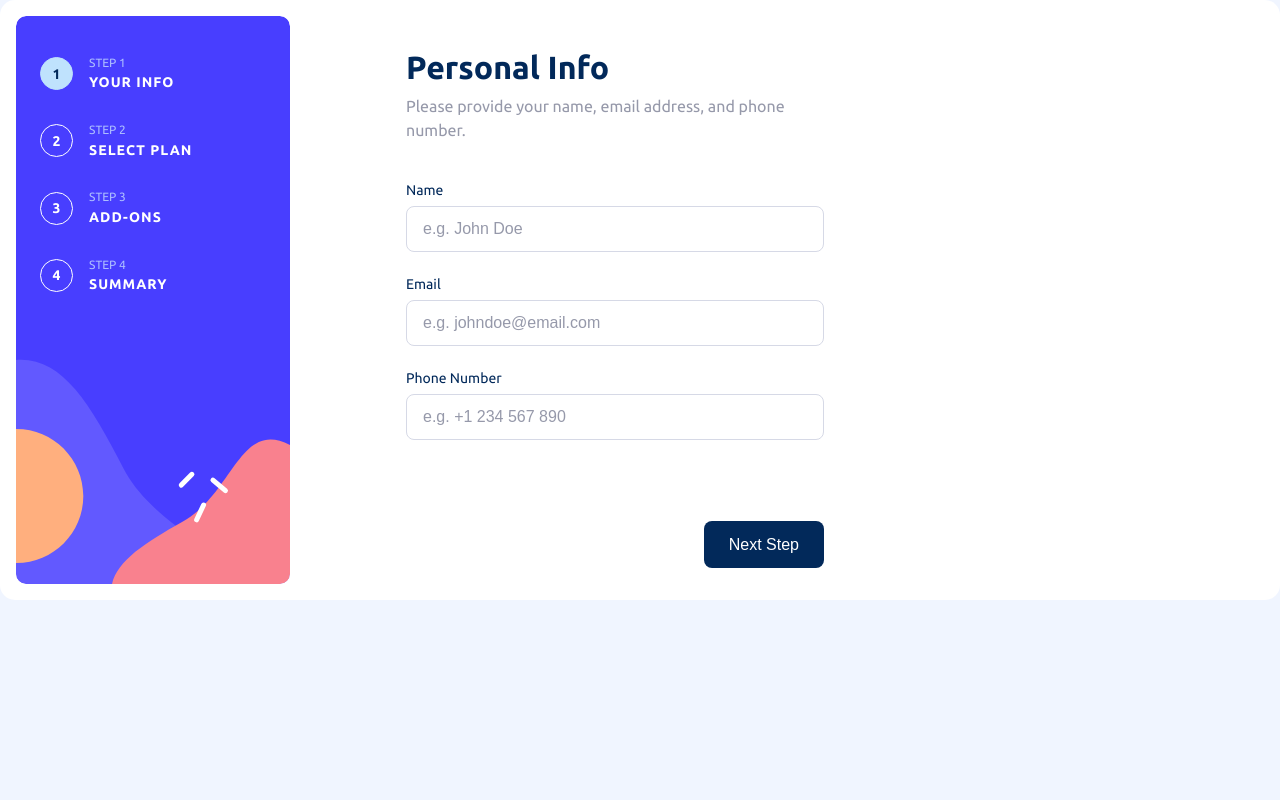
it: shows errors with invalid personal info
The width and height of the screenshot is (1280, 800).
Step 1. Click the button "Next Step" → [764, 544], box [704,521,824,568]
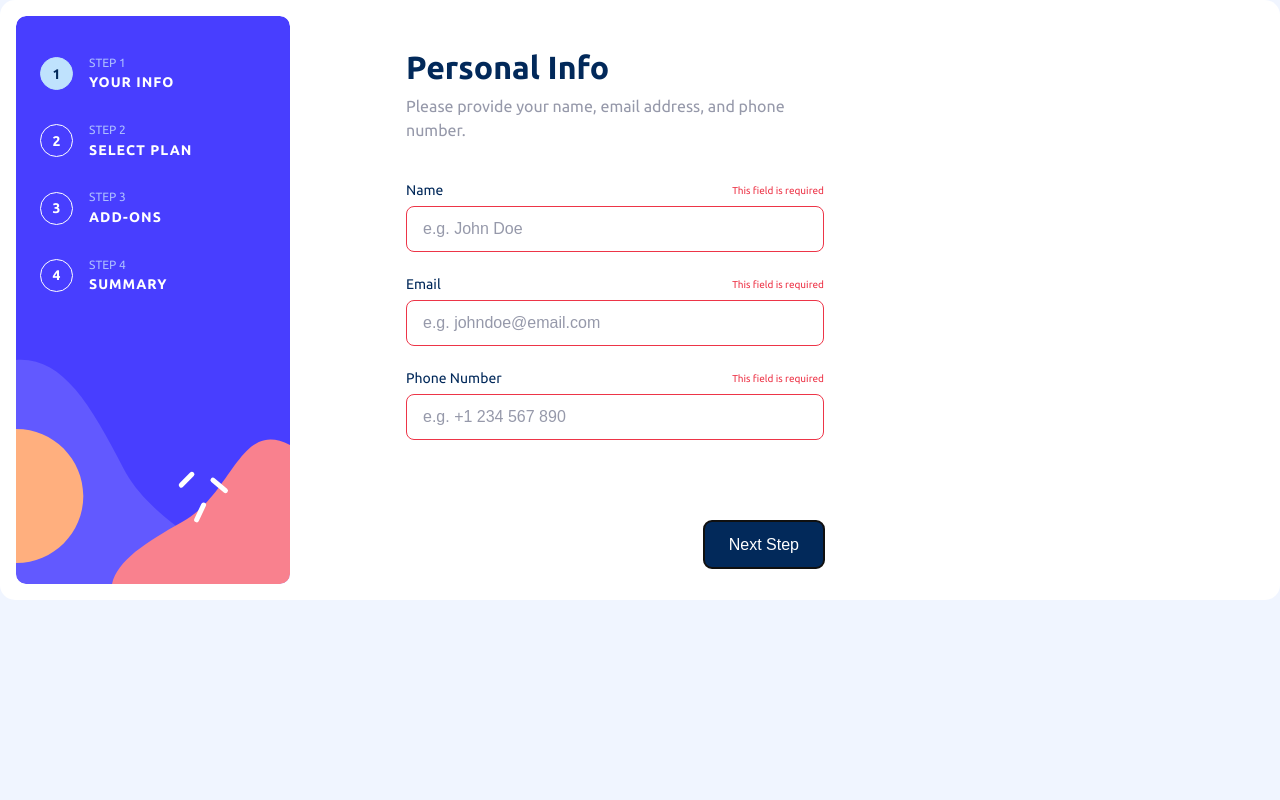
Now the text "This field is required" is shown 3 times, box [732,185,824,196]; [732,279,824,290]; [732,373,824,384]
